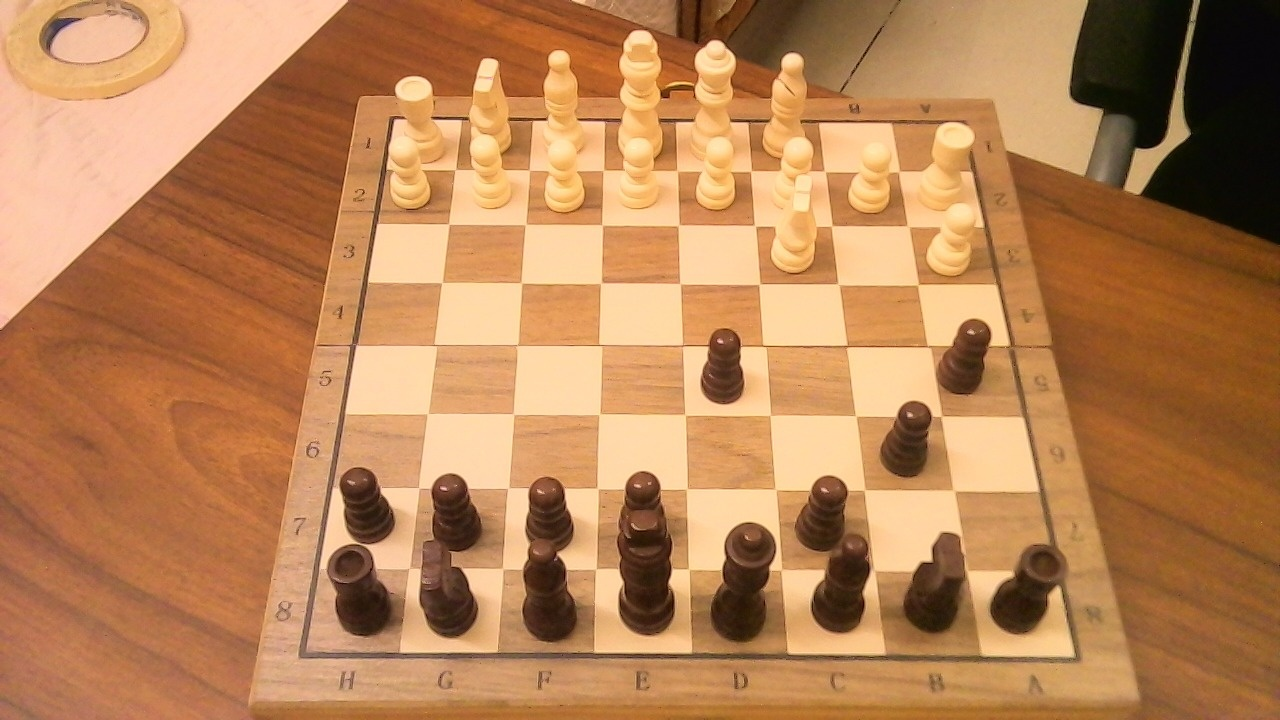B: (757, 42, 817, 164), (535, 38, 594, 160)
K: (609, 18, 672, 163)
N: (763, 163, 829, 277), (461, 47, 520, 159)
P: (920, 193, 984, 278), (459, 125, 518, 214), (840, 133, 901, 217), (763, 128, 822, 214), (687, 127, 744, 215), (535, 130, 592, 217), (610, 127, 666, 215), (382, 128, 438, 212)
Q: (682, 29, 746, 167)
R: (910, 111, 983, 215), (390, 67, 451, 167)
b: (808, 521, 884, 638), (510, 539, 590, 645)
k: (601, 491, 691, 640)
n: (411, 525, 490, 641), (900, 535, 979, 635)
p: (604, 458, 679, 565), (874, 388, 944, 481), (331, 456, 404, 545), (691, 317, 756, 408), (937, 306, 1001, 397), (432, 473, 482, 552), (522, 477, 576, 550), (803, 475, 853, 550)
q: (701, 509, 790, 647)
r: (984, 531, 1076, 638), (321, 533, 402, 639)
